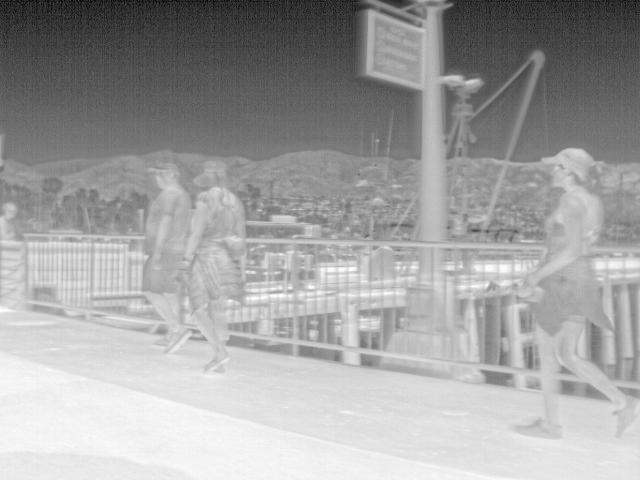person: (509, 145, 639, 438), (178, 158, 253, 376), (140, 162, 193, 358), (0, 199, 19, 241)
